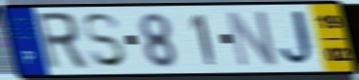1: (189, 13, 217, 66)
8: (136, 11, 179, 70)
J: (278, 8, 321, 69)
N: (224, 9, 280, 70)
R: (33, 10, 91, 73)
S: (80, 12, 130, 71)
